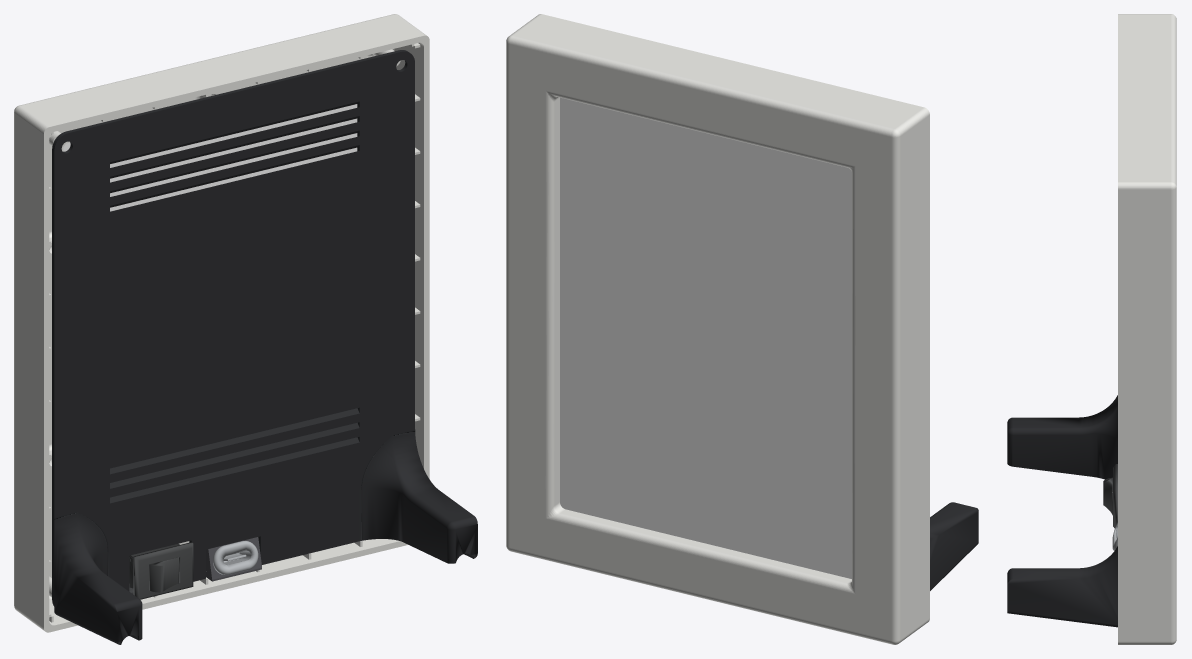
Rendered from vertical-compact.glb.
The picture shows the model from 3 angles, left to right: view 1: azimuth 30°, elevation 25°; view 2: azimuth 150°, elevation 25°; view 3: azimuth 270°, elevation 25°; orthographic projection. The views are drawn at different scales.
Parts seen in each view (by area): view 1: Tapa_Trasera_Vertical_Plancha-2-solid1, Cubierta_V2-1-solid1, Tapa_Trasera_Vertical_Plancha_Patas-1-solid2, Tapa_Trasera_Vertical_Plancha_Patas-1-solid1, PHOTO_CAD_SEAT_108x144, Interruptor-1-solid1, USB Type-C-1-solid2, Interruptor-1-solid2, USB-C-1-solid1; view 2: PHOTO_CAD_SEAT_108x144, Cubierta_V2-1-solid1, Tapa_Trasera_Vertical_Plancha_Patas-1-solid1; view 3: Cubierta_V2-1-solid1, Tapa_Trasera_Vertical_Plancha_Patas-1-solid1, Tapa_Trasera_Vertical_Plancha_Patas-1-solid2, Interruptor-1-solid2, Interruptor-1-solid1.
Part boxes in pixels (x1,y1,x2,y2): Tapa_Trasera_Vertical_Plancha-2-solid1: [52, 50, 414, 606]; Cubierta_V2-1-solid1: [14, 14, 429, 632]; Tapa_Trasera_Vertical_Plancha_Patas-1-solid2: [359, 429, 477, 563]; Tapa_Trasera_Vertical_Plancha_Patas-1-solid1: [54, 511, 142, 644]; PHOTO_CAD_SEAT_108x144: [63, 104, 357, 211]; Interruptor-1-solid1: [129, 542, 193, 599]; USB Type-C-1-solid2: [213, 541, 258, 574]; Interruptor-1-solid2: [149, 556, 180, 592]; USB-C-1-solid1: [206, 537, 261, 581]; PHOTO_CAD_SEAT_108x144: [560, 97, 851, 578]; Cubierta_V2-1-solid1: [506, 14, 929, 644]; Tapa_Trasera_Vertical_Plancha_Patas-1-solid1: [930, 502, 978, 590]; Cubierta_V2-1-solid1: [1118, 14, 1176, 644]; Tapa_Trasera_Vertical_Plancha_Patas-1-solid1: [1007, 395, 1117, 479]; Tapa_Trasera_Vertical_Plancha_Patas-1-solid2: [1007, 546, 1117, 627]; Interruptor-1-solid2: [1103, 477, 1112, 515]; Interruptor-1-solid1: [1113, 464, 1117, 528].
Size of the model in its own units: 0.139 by 0.174 by 0.058.
12 materials, 5 textured.
